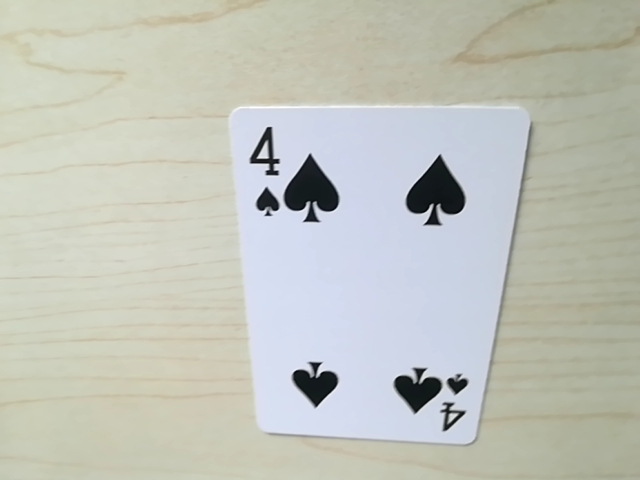ht 4: (243, 124, 293, 222), (427, 369, 472, 437)
